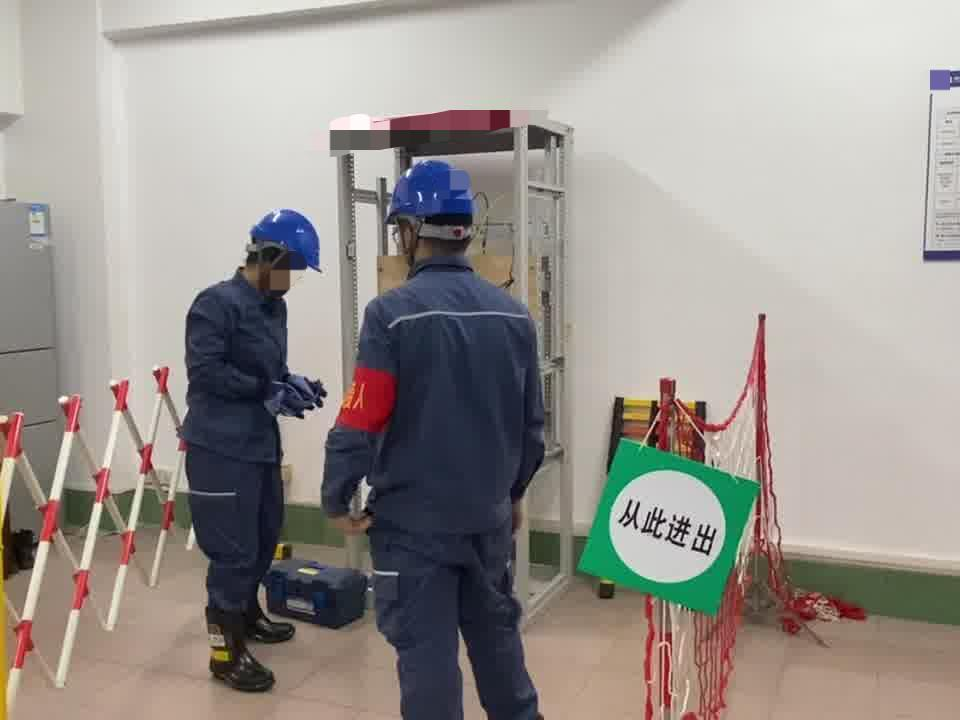halt: (386, 160, 482, 263), (247, 209, 325, 296)
inear: (395, 219, 427, 263), (257, 249, 287, 291)
